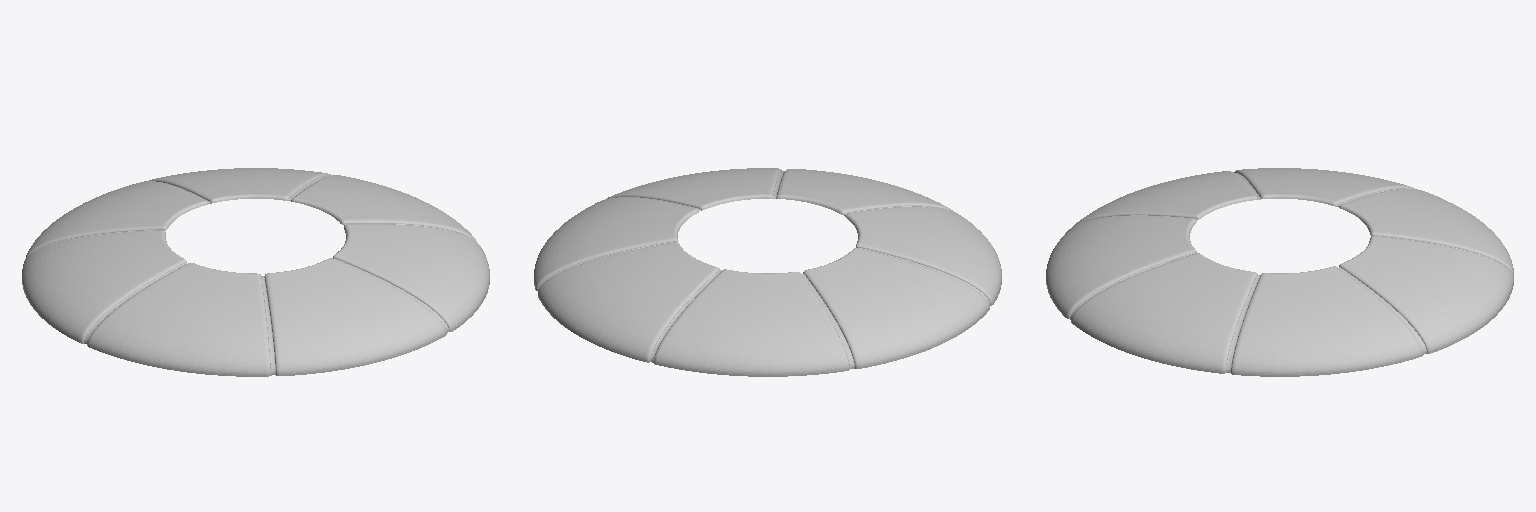
The model's file is shaderball_hd_cushion.obj.
3 renders of one model, left to right at view 1: azimuth 30°, elevation 25°; view 2: azimuth 150°, elevation 25°; view 3: azimuth 270°, elevation 25°, orthographic.
Visible parts, largest first — view 1: Cushion model_tris; view 2: Cushion model_tris; view 3: Cushion model_tris.
Part boxes in pixels (x1,y1,x2,y2): Cushion model_tris: (22,168,489,376); Cushion model_tris: (534,168,1001,376); Cushion model_tris: (1046,168,1513,376).
Size of the model in its own units: 156 by 16.08 by 156.